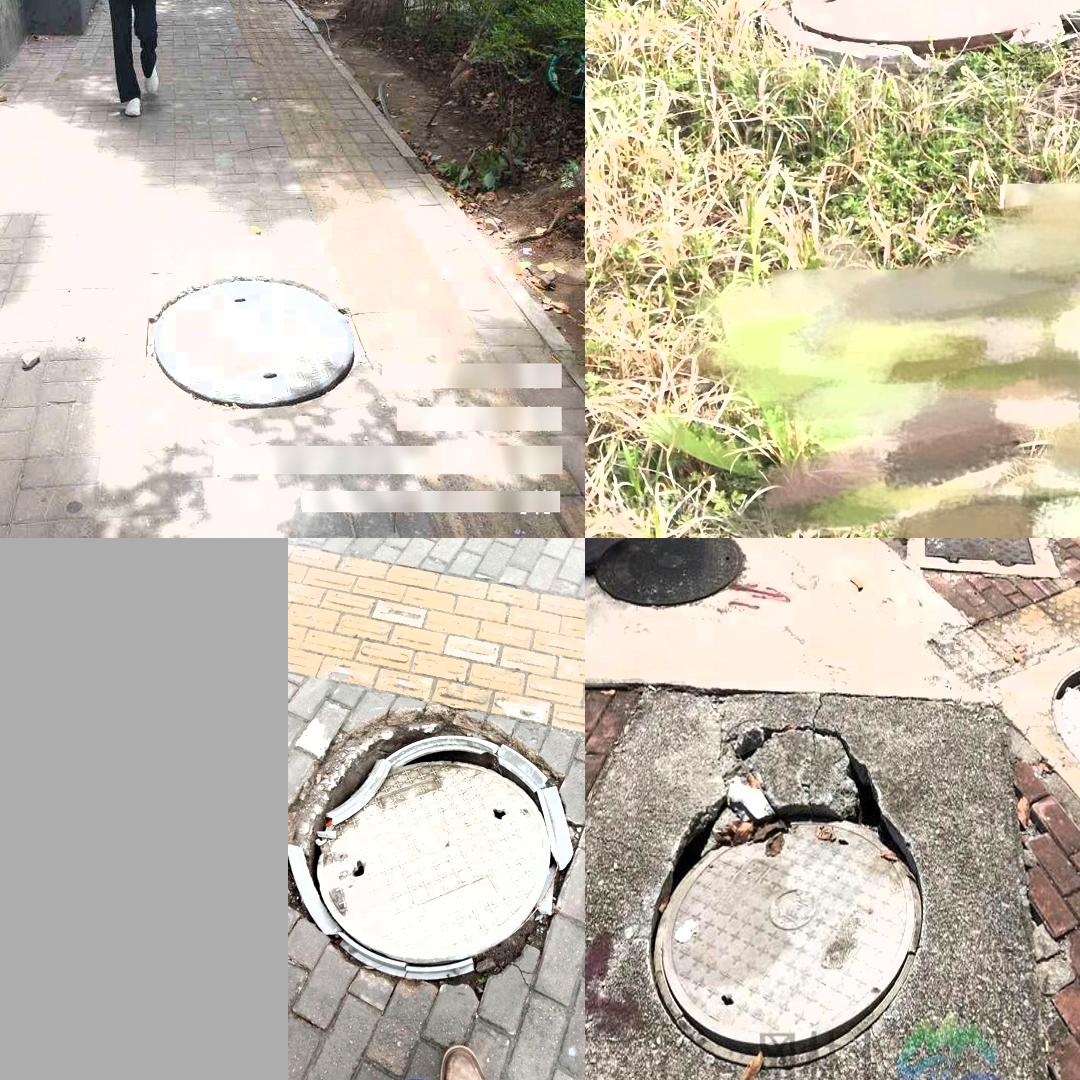circle: (588, 670, 1064, 1080), (290, 708, 580, 994), (147, 274, 360, 412), (738, 0, 1080, 73)
